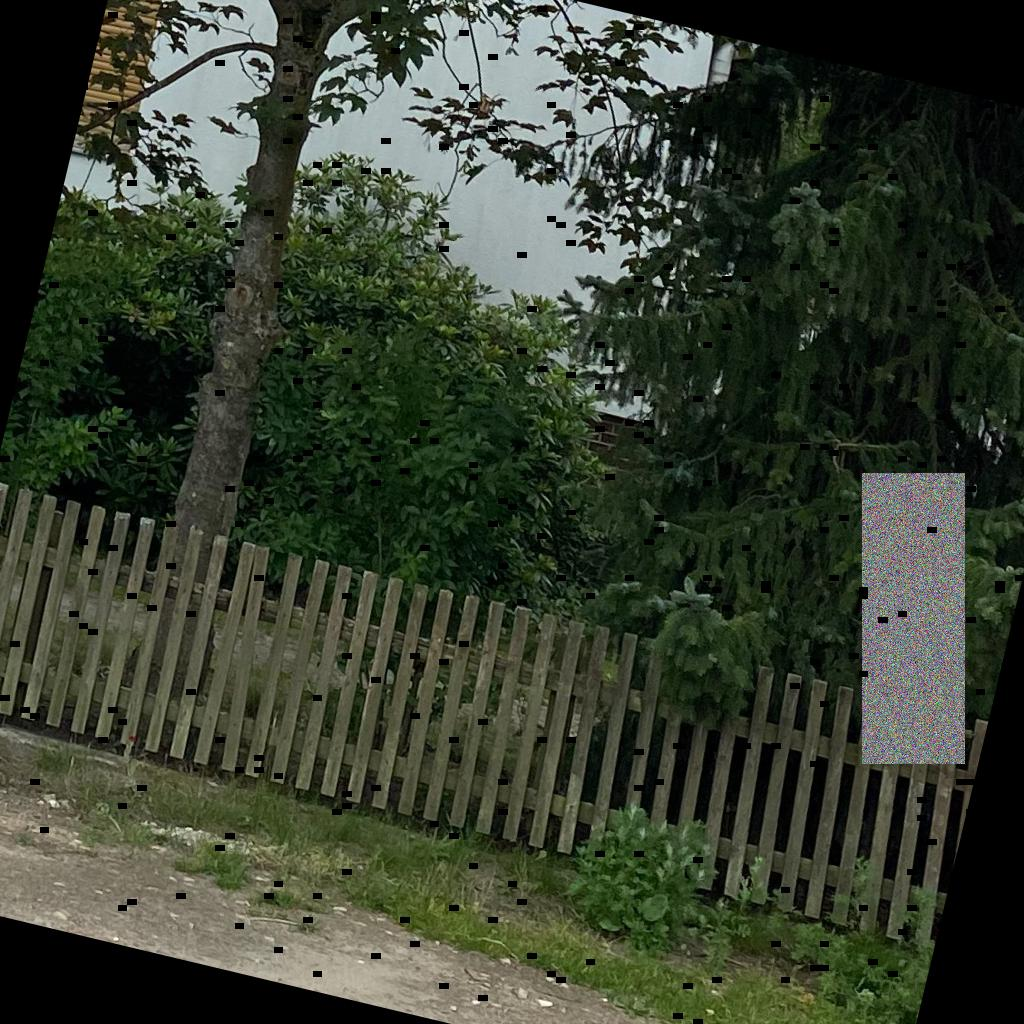tree: (1, 1, 757, 701), (463, 7, 1024, 726)
